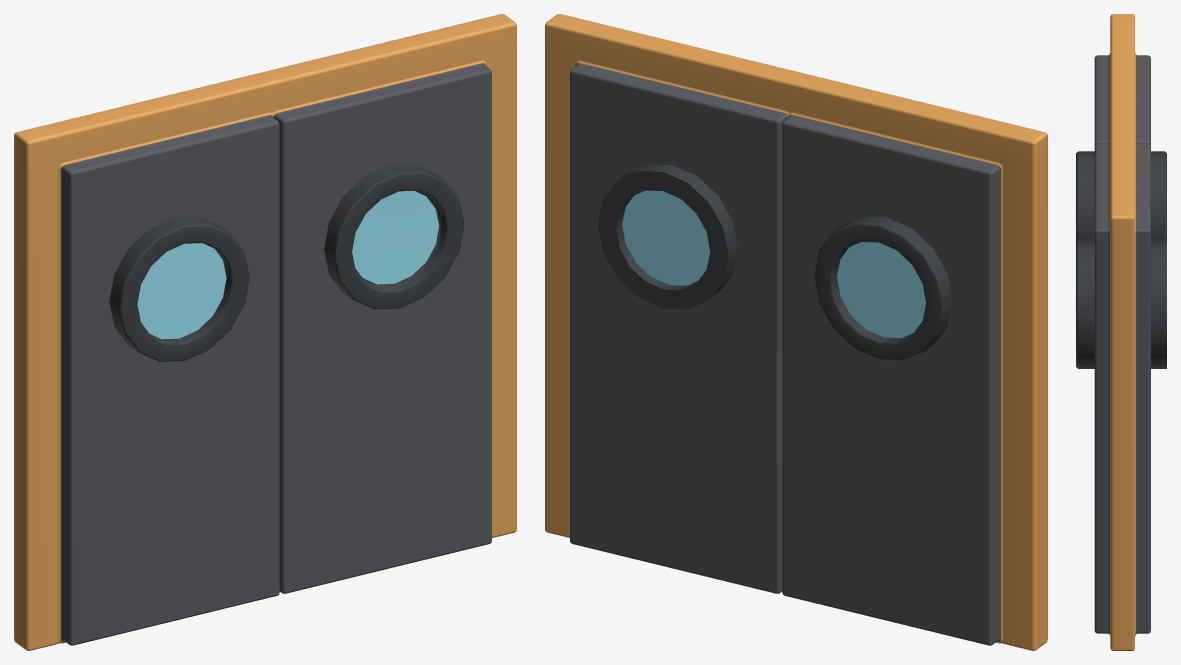
The model's file is RestoranKapisi.fbx.
The picture shows the model from 3 angles, left to right: view 1: azimuth 30°, elevation 25°; view 2: azimuth 150°, elevation 25°; view 3: azimuth 270°, elevation 25°; orthographic projection. The views are drawn at different scales.
Parts seen in each view (by area): view 1: RestoranKapi; view 2: RestoranKapi; view 3: RestoranKapi.
Boxes of the visible parts, box(x1,y1,x2,y2) form: RestoranKapi: box(14, 14, 516, 650); RestoranKapi: box(545, 14, 1047, 650); RestoranKapi: box(1076, 14, 1166, 650).
Size of the model in its own units: 3.07 by 3.05 by 0.577.
